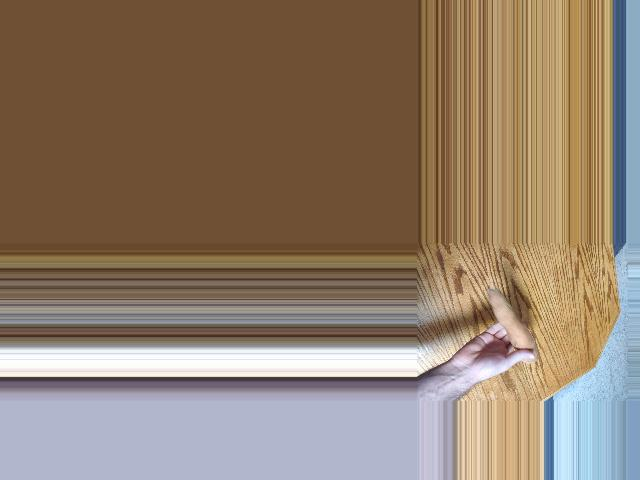sweet_potato: (487, 289, 538, 366)
